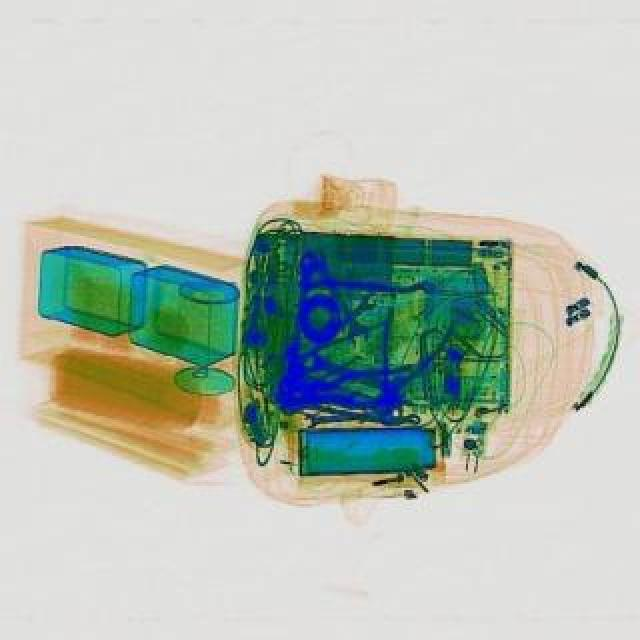scissors: (306, 248, 378, 352), (302, 294, 384, 366), (302, 408, 400, 434)
wrench: (360, 306, 460, 426)
